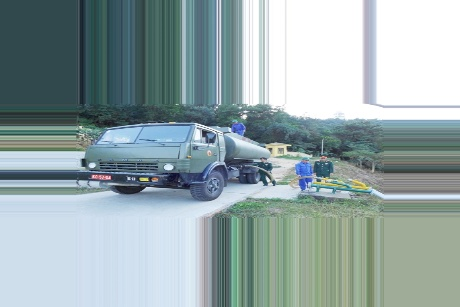plate: (90, 172, 112, 180)
